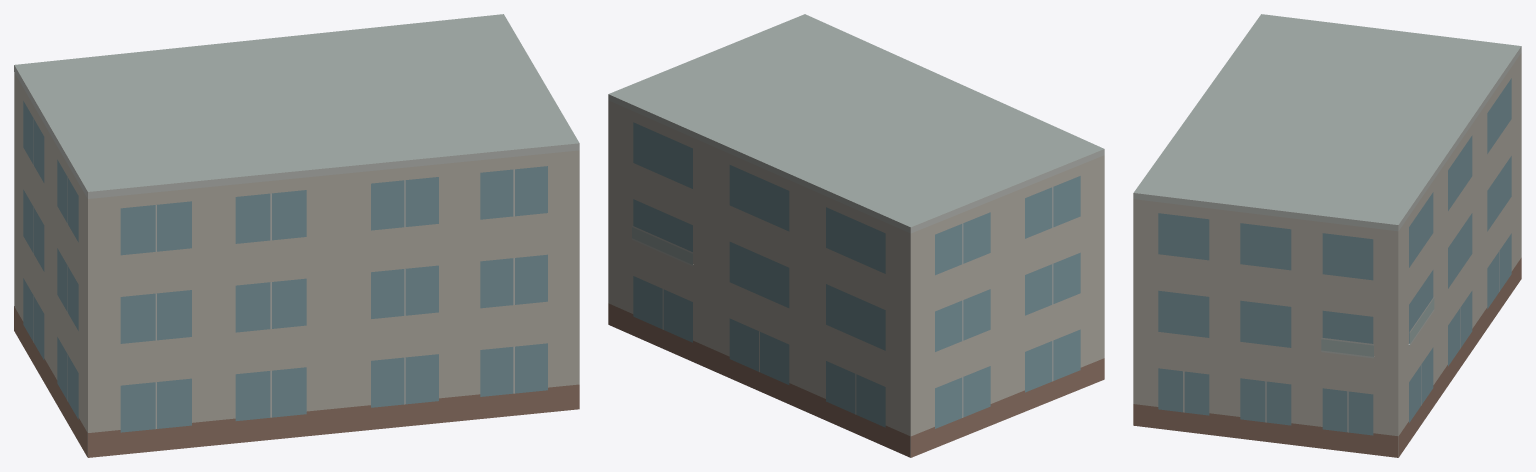
File: survey-upis-32963898.glb
3 views of the same model, side by side, from view 1: azimuth 30°, elevation 25°; view 2: azimuth 150°, elevation 25°; view 3: azimuth 270°, elevation 25° (orthographic). The views are drawn at different scales.
Parts seen in each view (by area): view 1: survey-upis-32963898.tmp; view 2: survey-upis-32963898.tmp; view 3: survey-upis-32963898.tmp.
Part boxes in pixels (x1,y1,x2,y2): survey-upis-32963898.tmp: (14, 14, 579, 457); survey-upis-32963898.tmp: (608, 14, 1104, 457); survey-upis-32963898.tmp: (1133, 14, 1521, 457).
Size of the model in its own units: 17.81 by 9.15 by 13.84.
